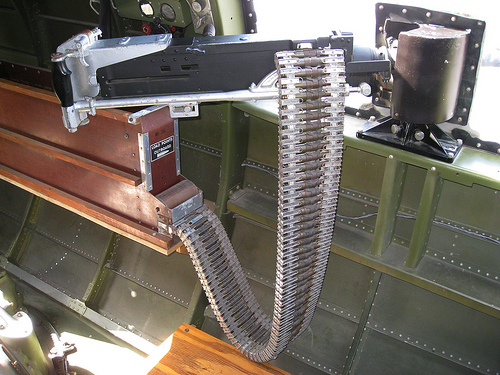rifle: (60, 21, 472, 255)
